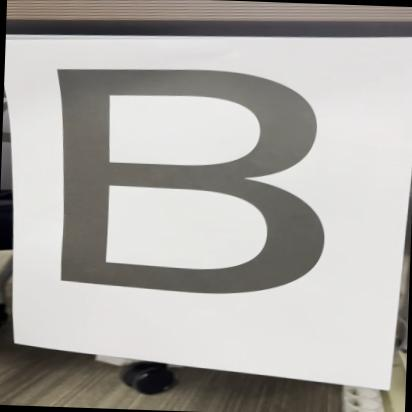seat: (27, 54, 352, 315)
